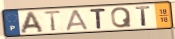A: (20, 11, 45, 34), (65, 9, 90, 32)
Q: (111, 6, 133, 29)
T: (43, 10, 63, 32), (89, 8, 107, 30), (135, 5, 153, 27)
